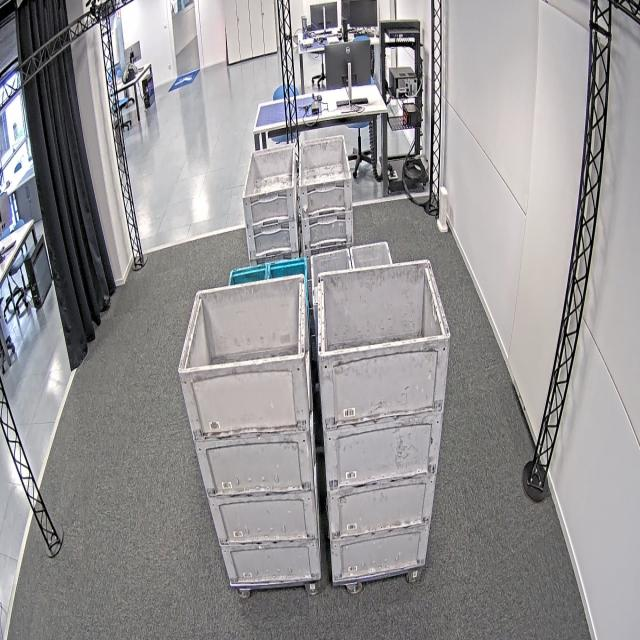Roll3G: (296, 133, 352, 190), (242, 141, 296, 200)
Roll4G: (316, 260, 452, 362), (178, 271, 308, 373)
Roll8G: (308, 240, 394, 292)
RollB8: (227, 256, 310, 288)
